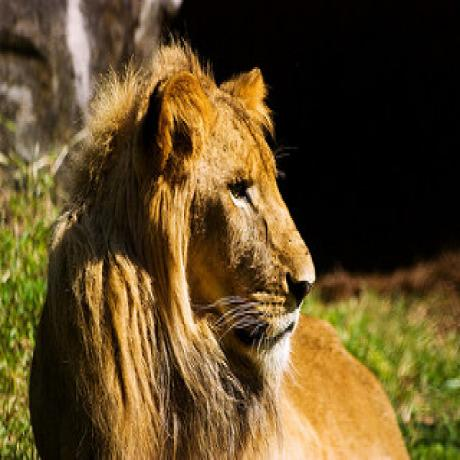Lion: (29, 40, 408, 459)
